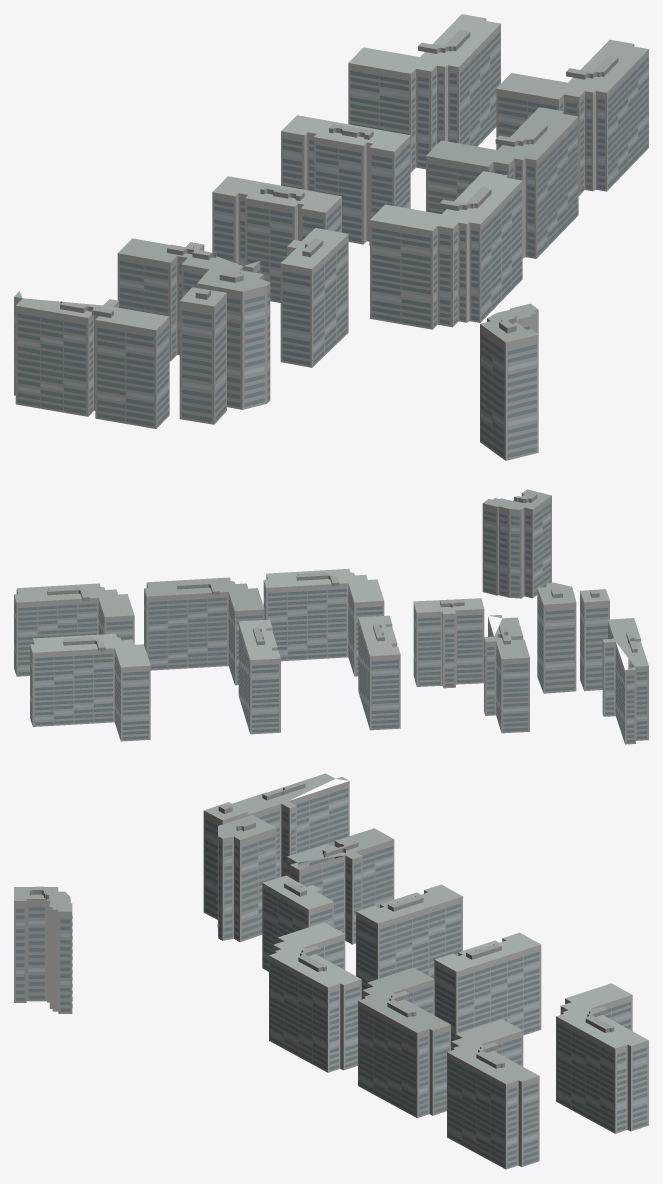
Rendered from apt-a13186305.glb.
The picture shows the model from 3 angles, top to bottom: view 1: azimuth 30°, elevation 25°; view 2: azimuth 150°, elevation 25°; view 3: azimuth 270°, elevation 25°; orthographic projection. The views are drawn at different scales.
Visible parts, largest first — view 1: apt-a13186305; view 2: apt-a13186305; view 3: apt-a13186305.
Boxes of the visible parts, left/top/right/bottom form: apt-a13186305: left=14, top=14, right=648, bottom=460; apt-a13186305: left=14, top=489, right=648, bottom=744; apt-a13186305: left=14, top=773, right=648, bottom=1169.
Size of the model in its own units: 299 by 47.81 by 258.
